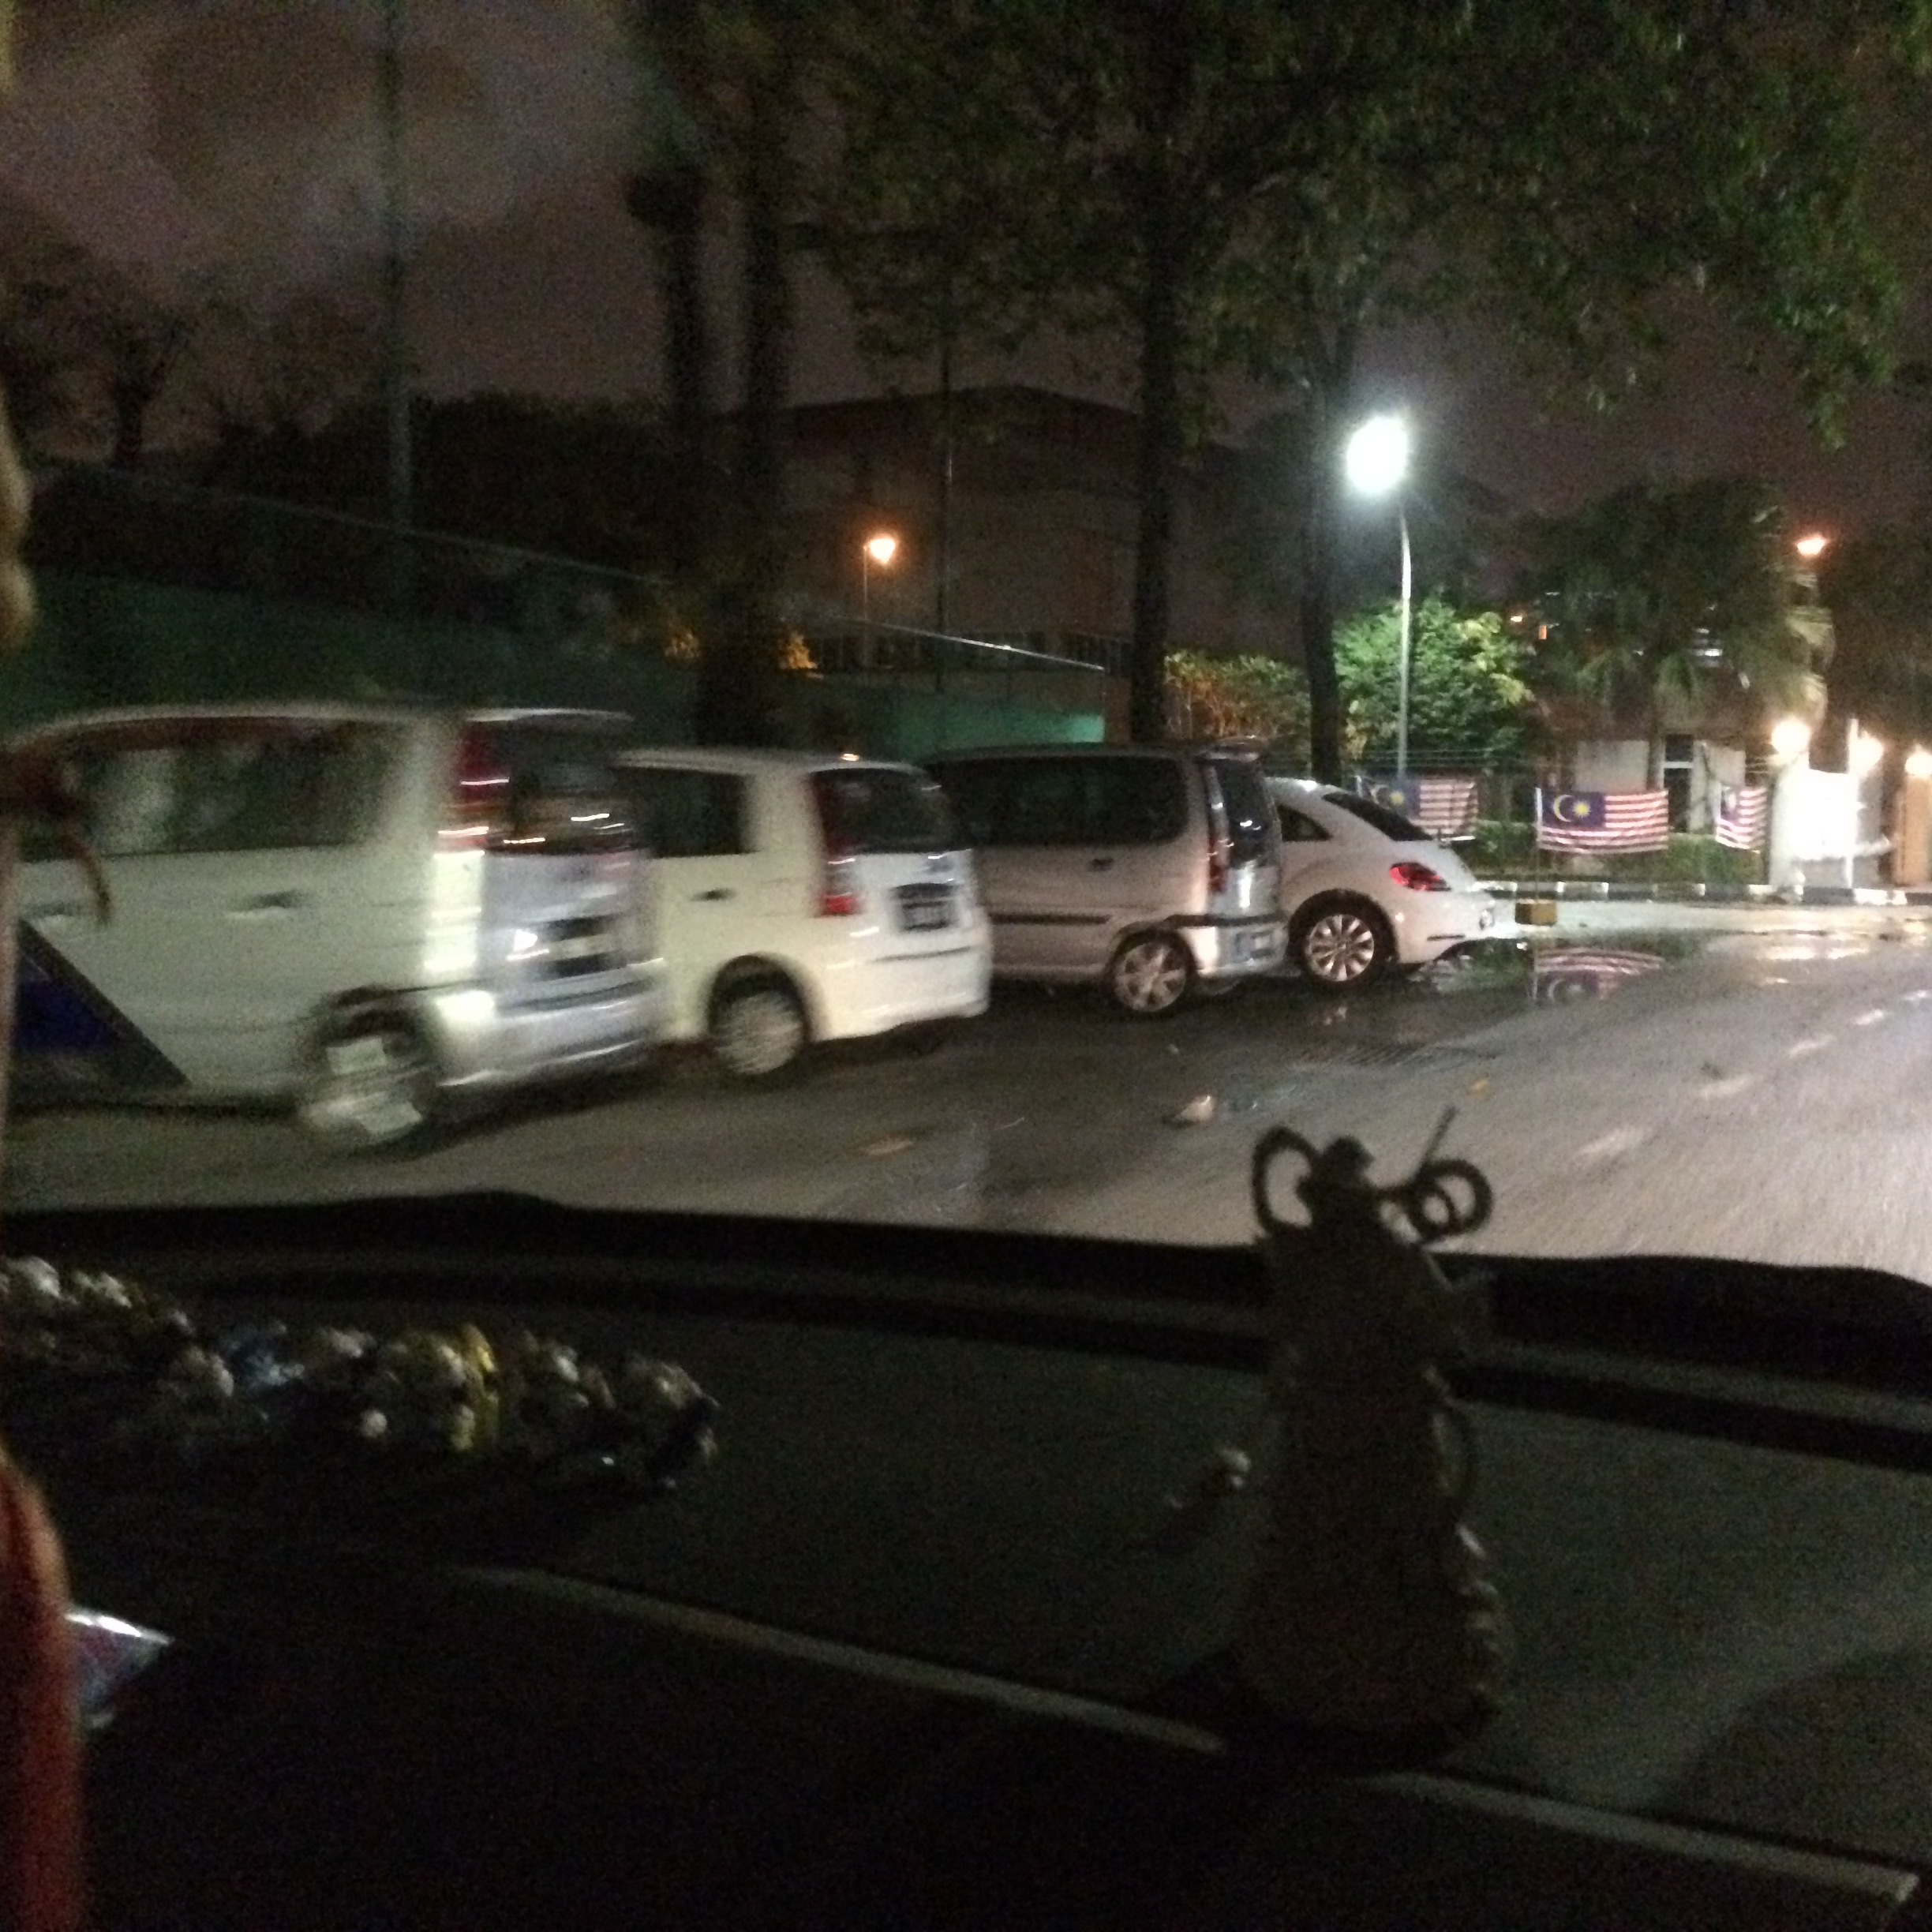car: (1251, 754, 1513, 1008)
